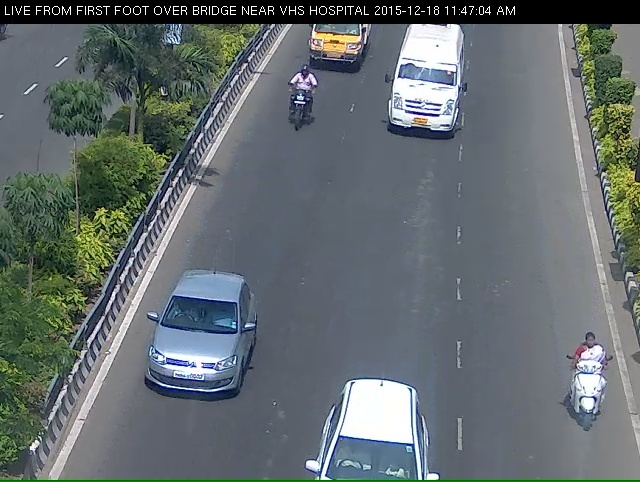Bus: (389, 26, 461, 158)
Car: (131, 283, 252, 450), (305, 399, 439, 480), (303, 20, 371, 81)
Person: (559, 352, 617, 465), (273, 83, 316, 145)
